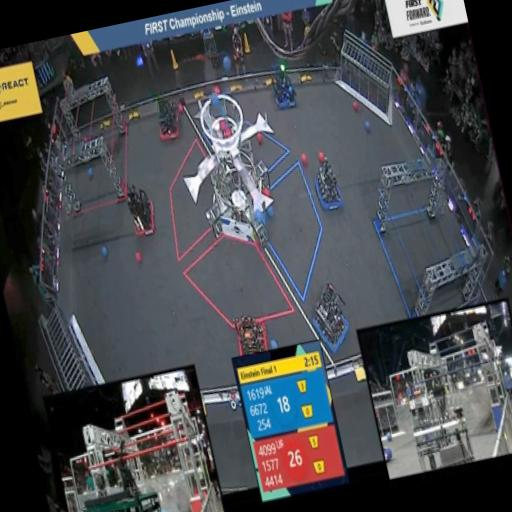robot: (302, 279, 354, 355), (304, 145, 348, 216), (120, 176, 162, 242), (144, 88, 184, 148), (262, 58, 302, 117), (226, 308, 272, 358)
